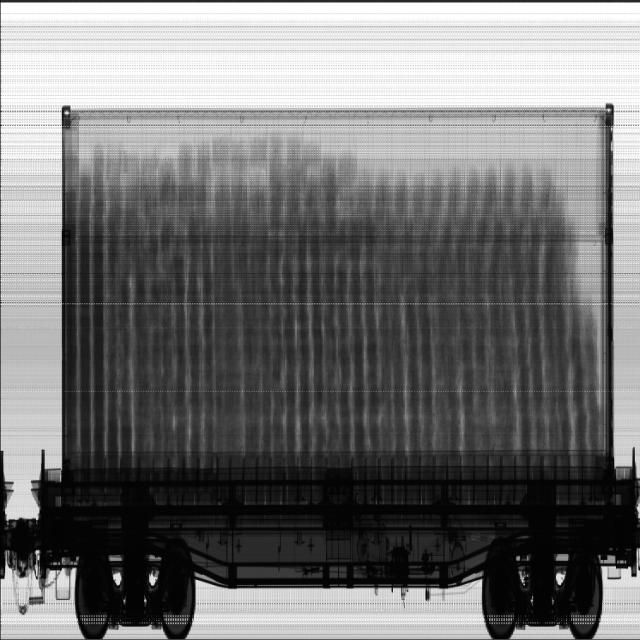clothes: (78, 133, 604, 472)
